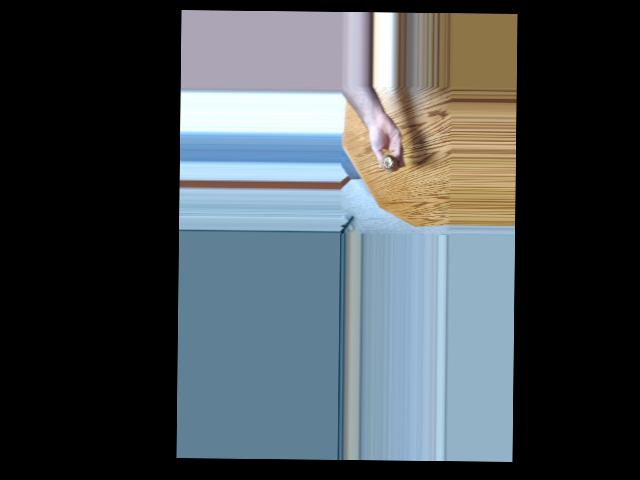sweet_potato: (378, 155, 395, 175)
